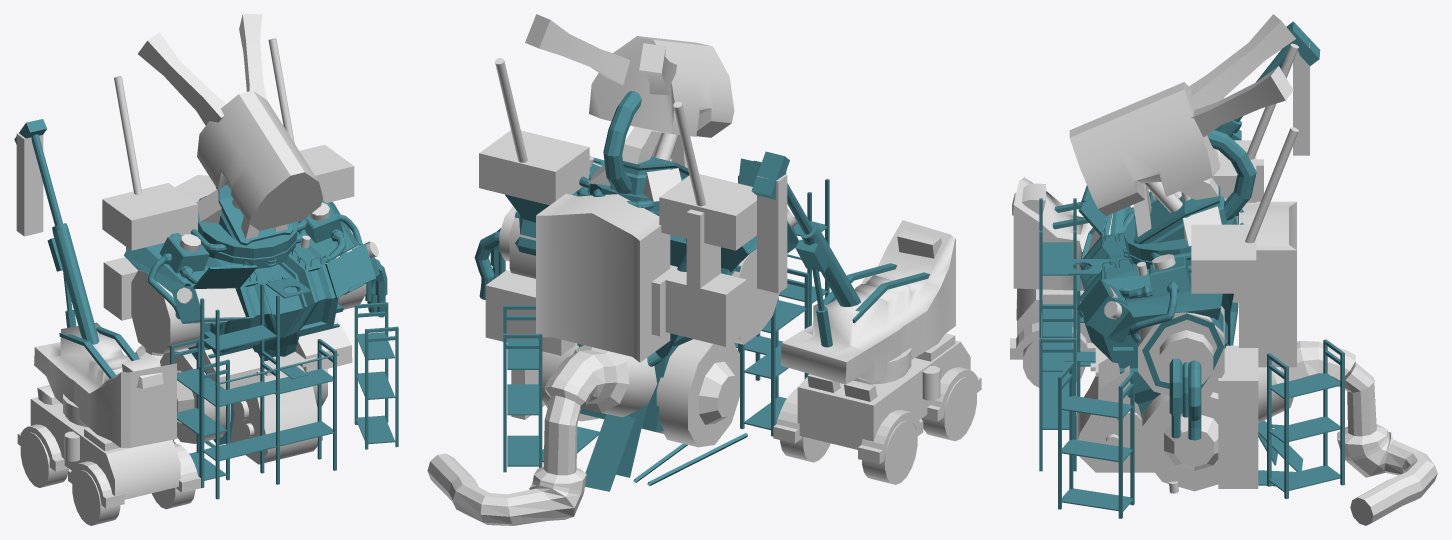
The model's file is M_Boss_Updated_Collision.FBX.
The picture shows the model from 3 angles, left to right: view 1: azimuth 30°, elevation 25°; view 2: azimuth 150°, elevation 25°; view 3: azimuth 270°, elevation 25°; orthographic projection. The views are drawn at different scales.
Visible parts, largest first — view 1: collider_53, collider_17, collider_28, collider_02, collider_29, collider_36, collider_116, collider_145, collider_21, collider_170, collider_27, collider_37 (+45 smaller); view 2: collider_108, collider_153, collider_17, collider_53, collider_109, collider_115, collider_02, collider_37, collider_36, collider_110, collider_27, collider_29 (+31 smaller); view 3: collider_53, collider_153, collider_108, collider_110, collider_114, collider_29, collider_17, collider_37, collider_28, collider_170, collider_169, collider_116 (+46 smaller).
Part boxes in pixels (x1,y1,x2,y2): collider_53: [197, 90, 323, 230]; collider_17: [34, 322, 176, 447]; collider_28: [171, 241, 379, 360]; collider_02: [30, 397, 180, 499]; collider_29: [124, 200, 358, 444]; collider_36: [102, 183, 197, 250]; collider_116: [230, 366, 322, 464]; collider_145: [131, 270, 204, 353]; collider_21: [31, 134, 99, 344]; collider_170: [138, 32, 225, 125]; collider_27: [16, 133, 43, 236]; collider_37: [299, 144, 354, 203]; collider_108: [536, 193, 670, 362]; collider_153: [427, 345, 657, 525]; collider_17: [780, 220, 955, 384]; collider_53: [589, 36, 734, 137]; collider_109: [651, 209, 746, 346]; collider_115: [656, 339, 739, 447]; collider_02: [797, 340, 970, 449]; collider_37: [479, 130, 589, 205]; collider_36: [659, 174, 756, 250]; collider_110: [485, 270, 575, 419]; collider_27: [757, 174, 787, 293]; collider_29: [505, 164, 756, 431]; collider_53: [1069, 82, 1220, 215]; collider_153: [1258, 341, 1437, 525]; collider_108: [1239, 201, 1296, 367]; collider_110: [1213, 345, 1258, 488]; collider_114: [1142, 392, 1218, 491]; collider_29: [1111, 191, 1236, 418]; collider_17: [1013, 177, 1133, 290]; collider_37: [1191, 224, 1256, 293]; collider_28: [1079, 206, 1150, 362]; collider_170: [1189, 14, 1295, 108]; collider_169: [1191, 66, 1293, 137]; collider_116: [1076, 376, 1154, 472].
Size of the model in its own units: 420 by 438 by 391.
